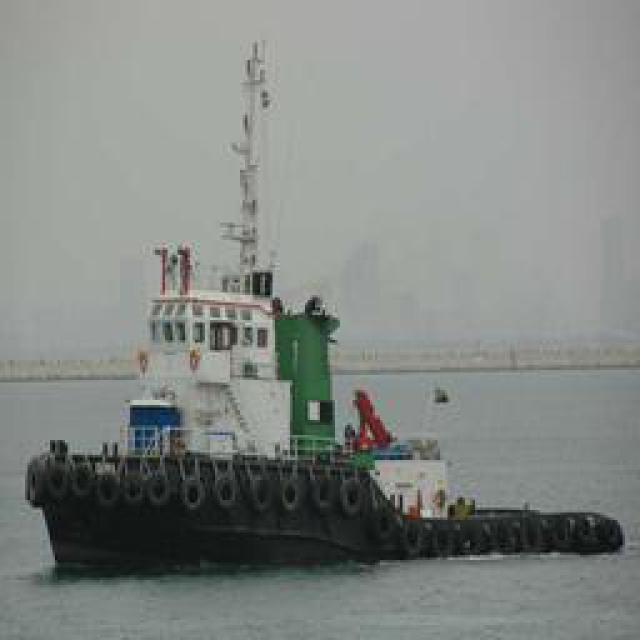Ship: (21, 195, 501, 570)
